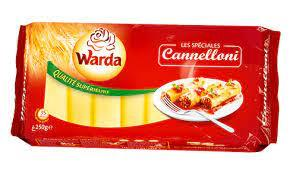Cannelloni: (12, 24, 282, 152)
